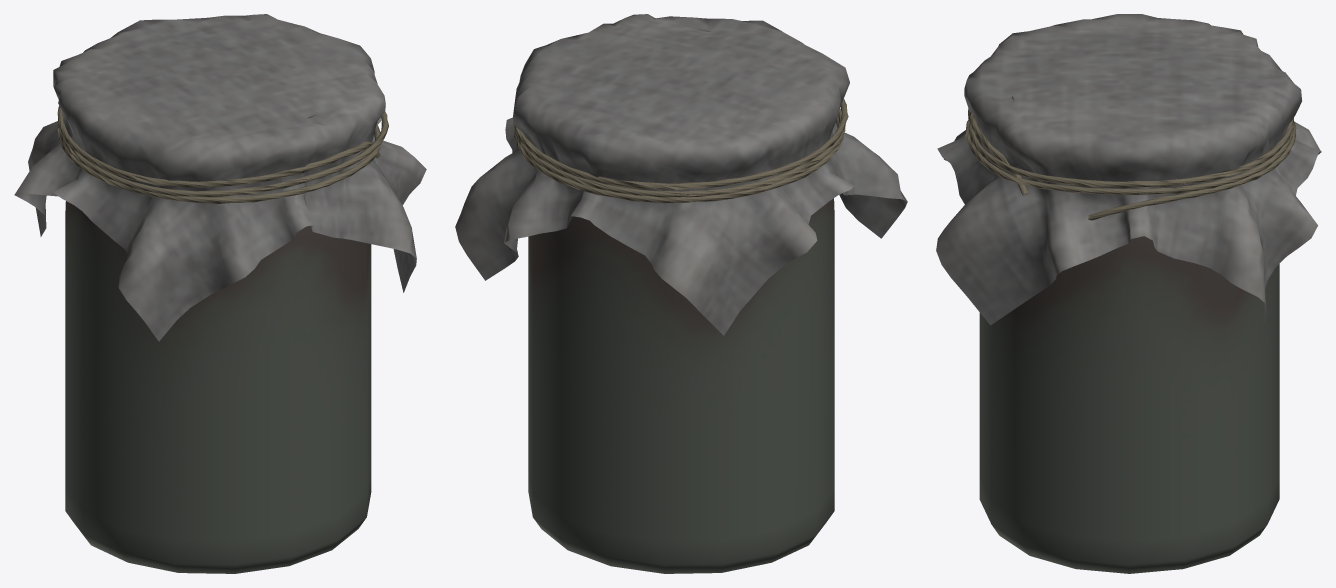
File: SM_Jar_01.fbx
3 renders of one model, left to right at view 1: azimuth 30°, elevation 25°; view 2: azimuth 150°, elevation 25°; view 3: azimuth 270°, elevation 25°, orthographic.
Visible parts, largest first — view 1: SM_Jar_01_LOD0; view 2: SM_Jar_01_LOD0; view 3: SM_Jar_01_LOD0.
Boxes of the visible parts, x1,y1,x2,y2 form: SM_Jar_01_LOD0: [14, 14, 426, 573]; SM_Jar_01_LOD0: [455, 14, 907, 573]; SM_Jar_01_LOD0: [936, 14, 1321, 573].
Bounding box in the file's own units: 12.84 × 12.52 × 15.83.
1 material, 1 textured.
